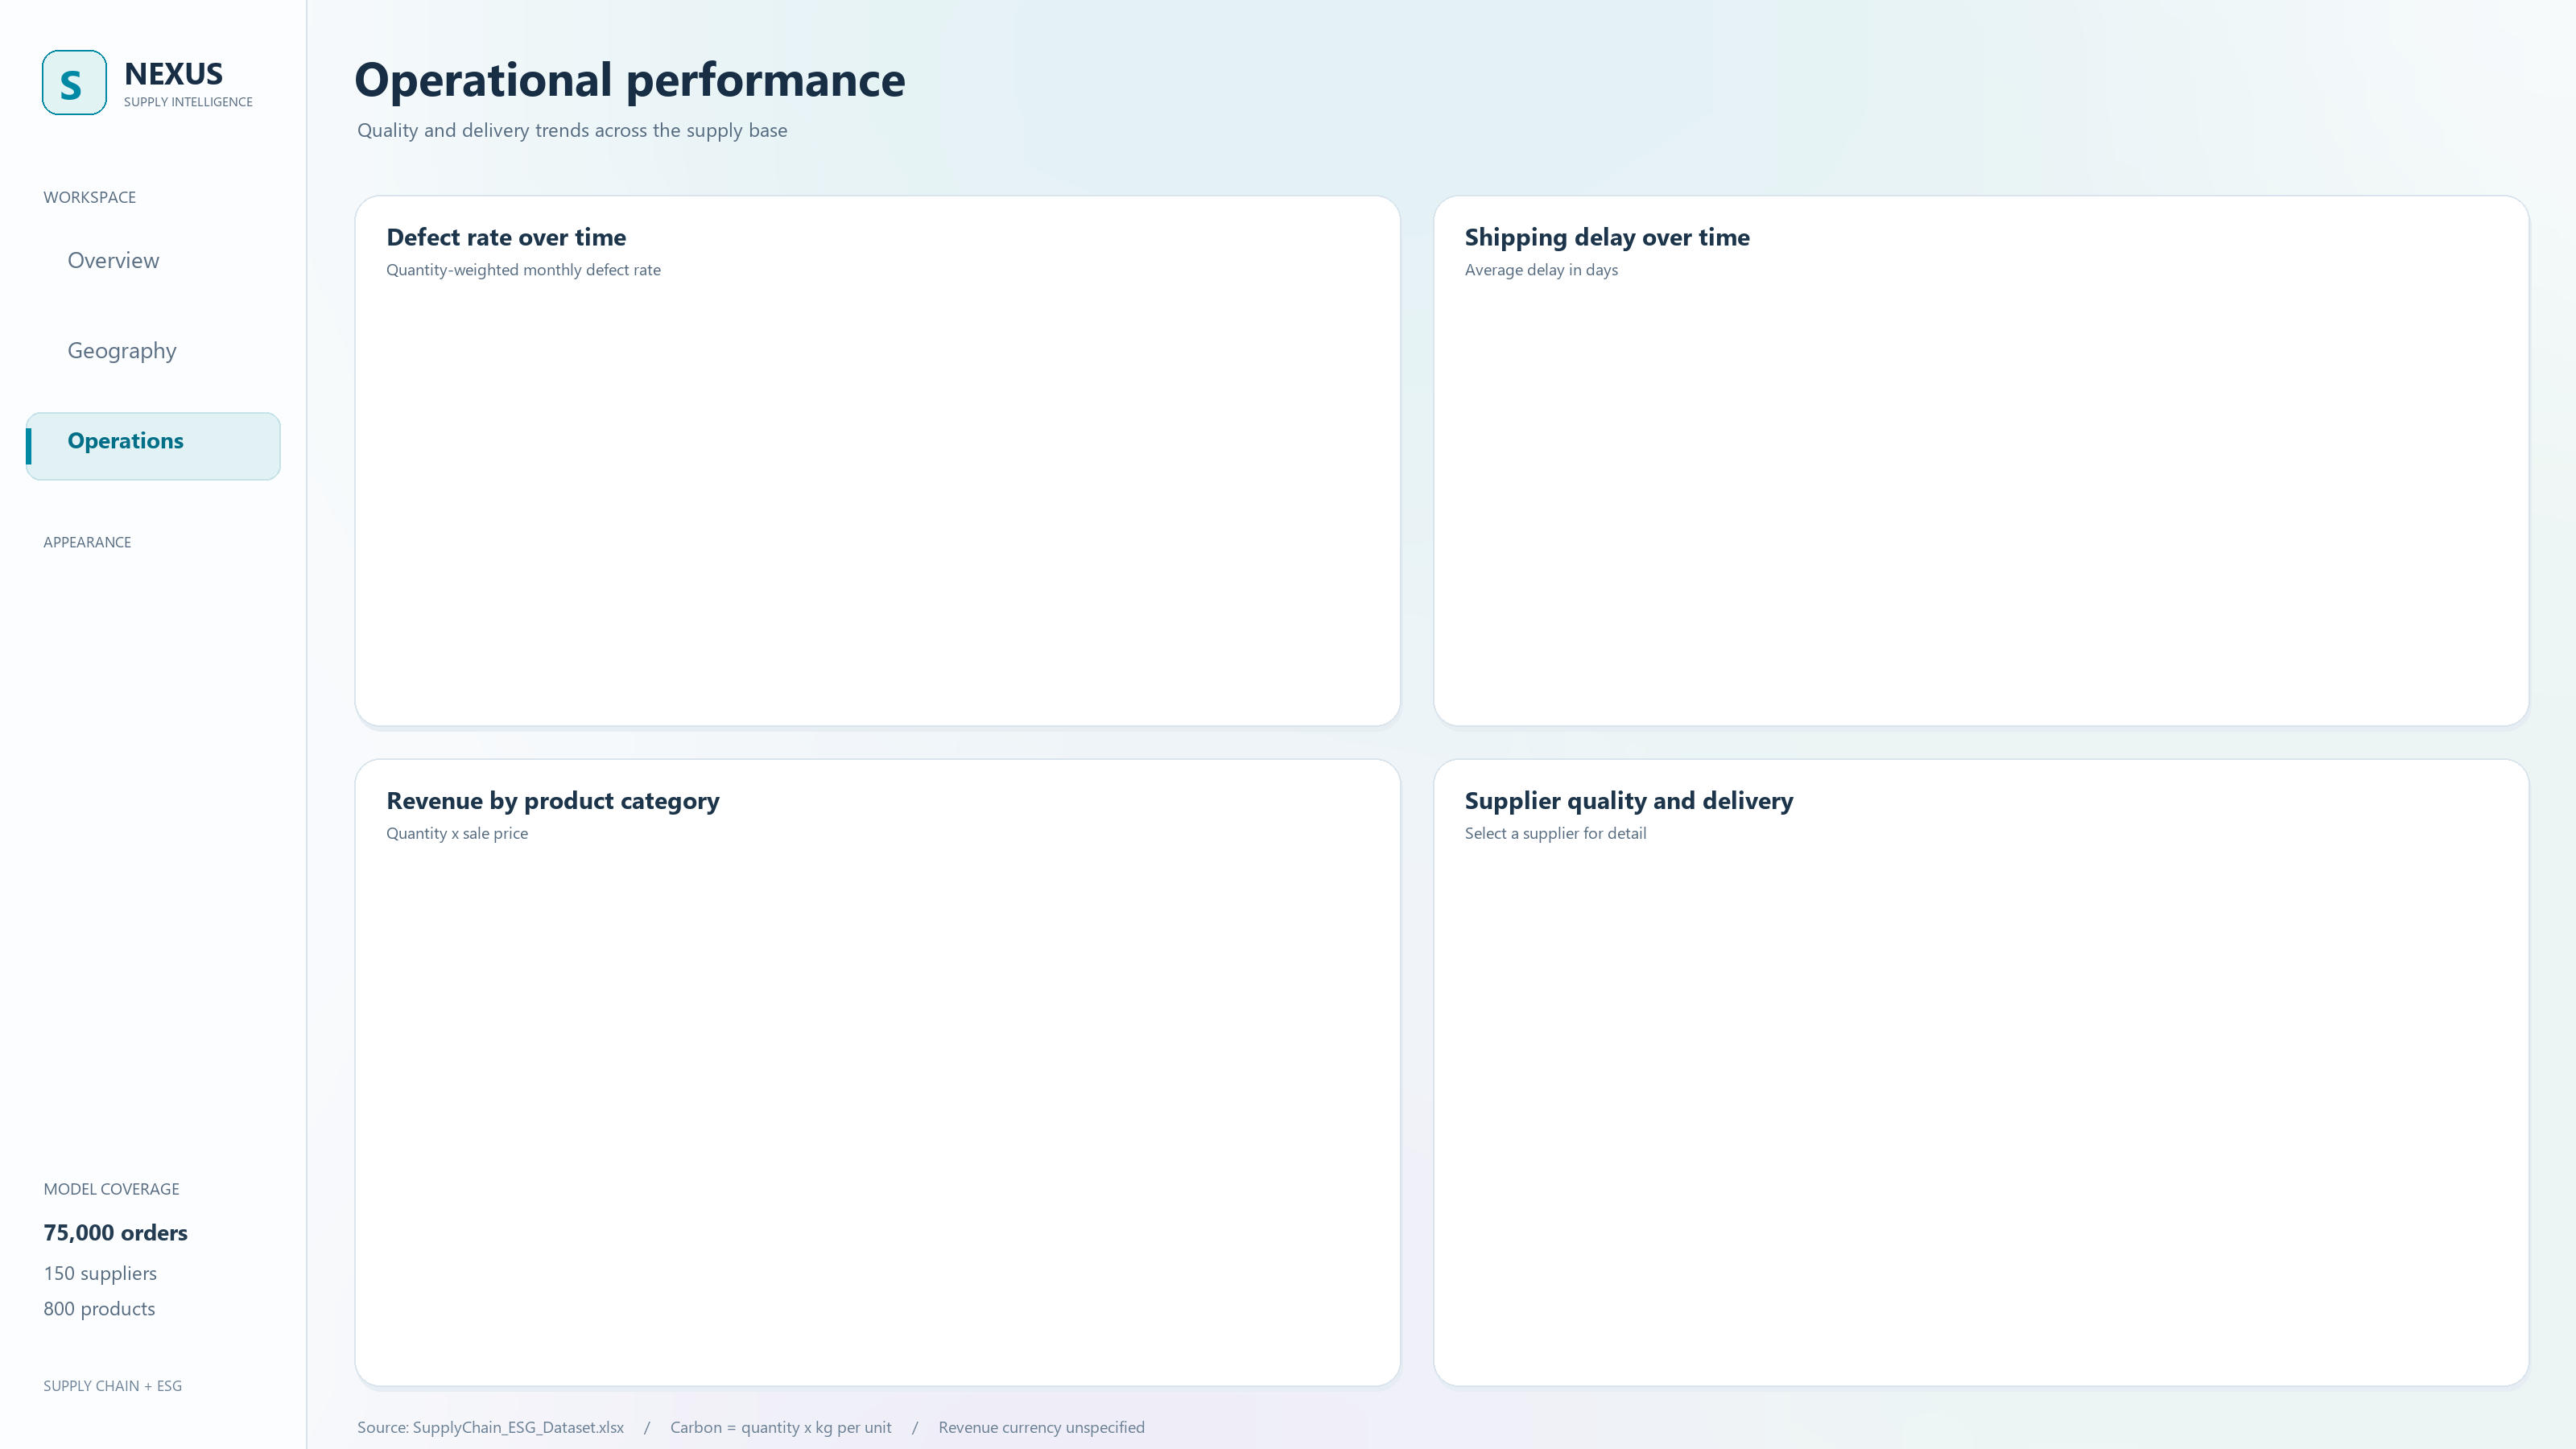

What the dashboard file says about the page in this screenshot:
{"tool":"powerbi","page":{"name":"Operations","canvas":[1600,900],"ordinal":2},"visuals":[{"type":"slicer","fields":{"Values":["Calendar.Year"]},"box":[1130,27,120,65],"z":21},{"type":"slicer","fields":{"Values":["Dim_Suppliers.Country"]},"box":[1260,27,150,65],"z":22},{"type":"slicer","fields":{"Values":["Dim_Suppliers.Risk_Rating"]},"box":[1420,27,150,65],"z":23},{"type":"areaChart","fields":{"Category":["Calendar.MonthStart"],"Y":["Fact_Orders.Weighted Defect Rate"]},"box":[237,182,618,252],"z":28},{"type":"areaChart","fields":{"Category":["Calendar.MonthStart"],"Y":["Fact_Orders.Avg Shipping Delay"]},"box":[906,182,649,252],"z":29},{"type":"barChart","fields":{"Category":["Dim_Products.Category"],"Y":["Fact_Orders.Total Revenue"]},"box":[237,532,618,312],"z":30},{"type":"tableEx","fields":{"Values":["Dim_Suppliers.SupplierName","Fact_Orders.Weighted Defect Rate","Fact_Orders.Avg Shipping Delay","Fact_Orders.Total Revenue"]},"box":[906,532,649,312],"z":31},{"type":"actionButton","box":[16,144,158,42],"z":100},{"type":"actionButton","box":[16,200,158,42],"z":101},{"type":"actionButton","box":[16,256,158,42],"z":102},{"type":"actionButton","box":[26,350,67,32],"z":2000},{"type":"actionButton","box":[97,350,67,32],"z":2001}]}

Visuals, with their boxes on the page's 1600x900 design canvas (x1, y1, x2, y2). These are canvas units, not pixel positions in the 2576x1449 screenshot, which may show the page scaled, cropped or inside an application window:
slicer - Calendar.Year: (1130, 27, 1250, 92)
slicer - Dim_Suppliers.Country: (1260, 27, 1410, 92)
slicer - Dim_Suppliers.Risk_Rating: (1420, 27, 1570, 92)
areaChart - Calendar.MonthStart x Fact_Orders.Weighted Defect Rate: (237, 182, 855, 434)
areaChart - Calendar.MonthStart x Fact_Orders.Avg Shipping Delay: (906, 182, 1555, 434)
barChart - Dim_Products.Category x Fact_Orders.Total Revenue: (237, 532, 855, 844)
tableEx - Dim_Suppliers.SupplierName x Fact_Orders.Weighted Defect Rate: (906, 532, 1555, 844)
actionButton: (16, 144, 174, 186)
actionButton: (16, 200, 174, 242)
actionButton: (16, 256, 174, 298)
actionButton: (26, 350, 93, 382)
actionButton: (97, 350, 164, 382)
